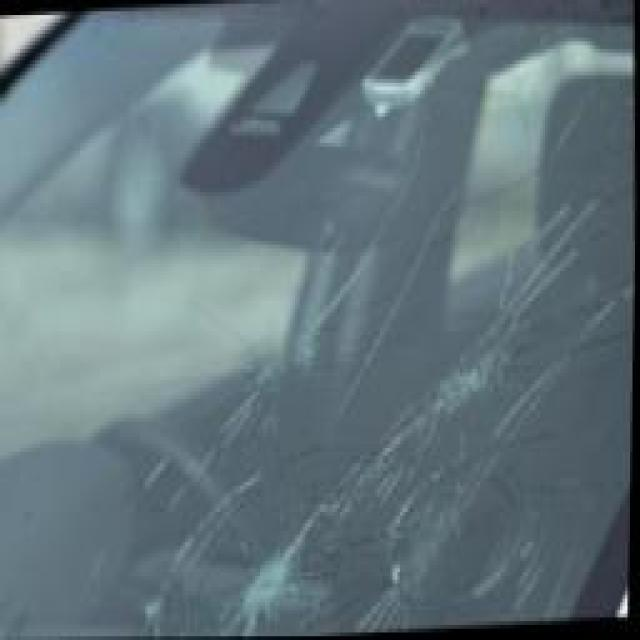Windshield: (75, 56, 638, 640)
